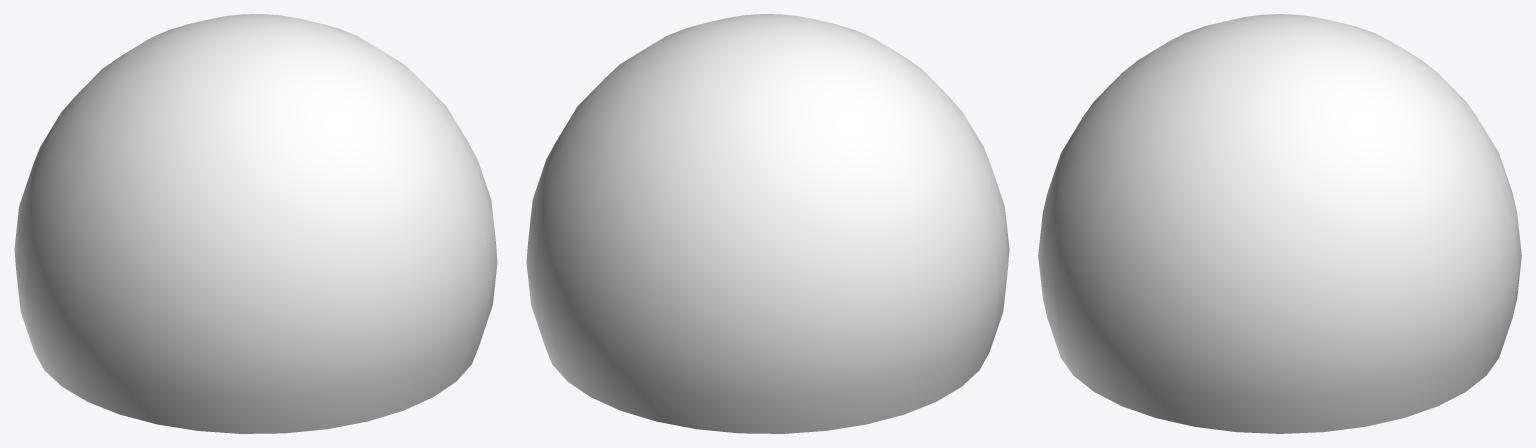
Rendered from qiu_1.FBX.
3 views of the same model, side by side, from view 1: azimuth 30°, elevation 25°; view 2: azimuth 150°, elevation 25°; view 3: azimuth 270°, elevation 25° (orthographic).
Parts seen in each view (by area): view 1: Sphere001; view 2: Sphere001; view 3: Sphere001.
Boxes of the visible parts, x1,y1,x2,y2 form: Sphere001: [14, 14, 497, 433]; Sphere001: [526, 14, 1009, 433]; Sphere001: [1038, 14, 1521, 433].
Bounding box in the file's own units: 4.27 × 4.27 × 2.95.
